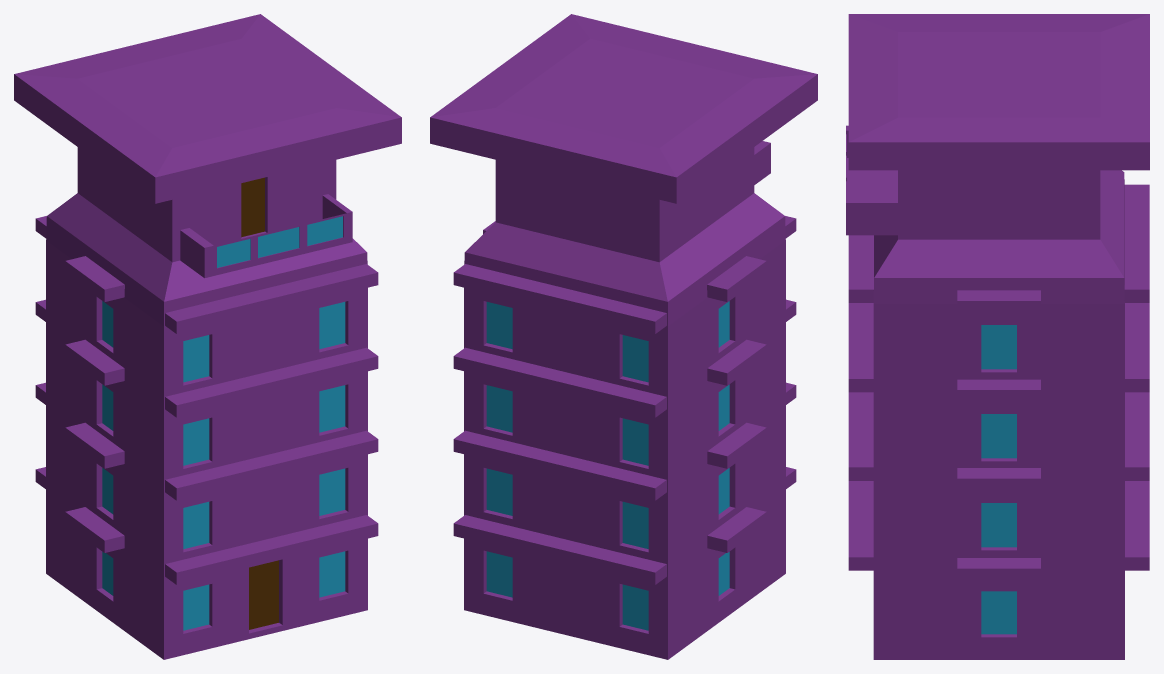
File: apartment1.obj
3 views of the same model, side by side, from view 1: azimuth 30°, elevation 25°; view 2: azimuth 150°, elevation 25°; view 3: azimuth 270°, elevation 25° (orthographic). The views are drawn at different scales.
Visible parts, largest first — view 1: apartment2_Cube.019; view 2: apartment2_Cube.019; view 3: apartment2_Cube.019.
Part boxes in pixels (box(x1,y1,x2,y2)): apartment2_Cube.019: box(14, 14, 401, 659); apartment2_Cube.019: box(430, 14, 817, 659); apartment2_Cube.019: box(846, 14, 1149, 659).
Size of the model in its own units: 12.08 by 23.35 by 12.09.
Materials: 1 (1 with a texture image).
